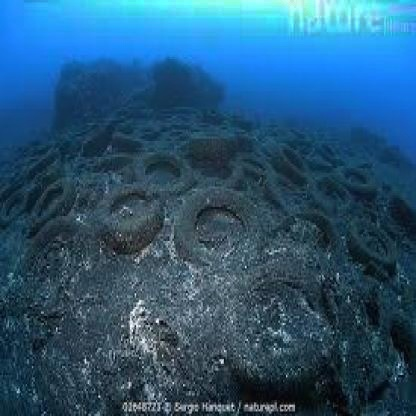tire: (184, 186, 262, 300), (103, 180, 165, 250), (282, 200, 340, 273), (126, 138, 186, 204), (351, 218, 399, 280), (29, 172, 80, 230), (272, 139, 312, 202), (334, 157, 378, 202)
